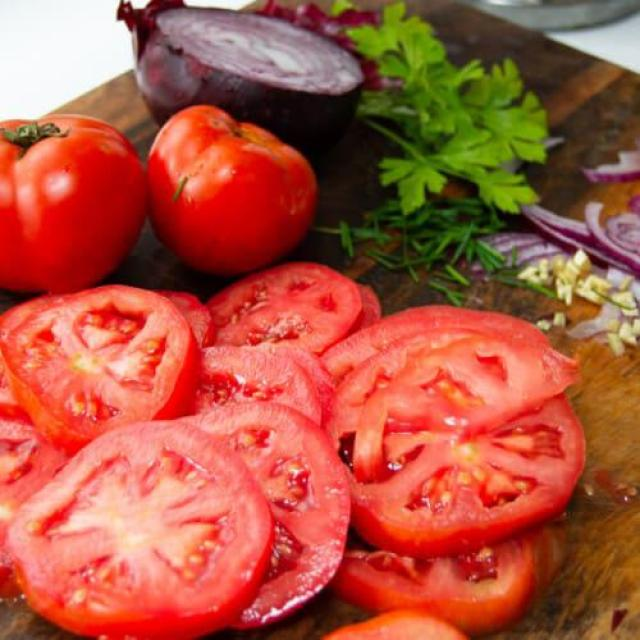Tomato: (9, 437, 276, 626), (350, 348, 582, 550), (0, 285, 212, 426), (152, 105, 319, 260), (4, 115, 154, 286)
